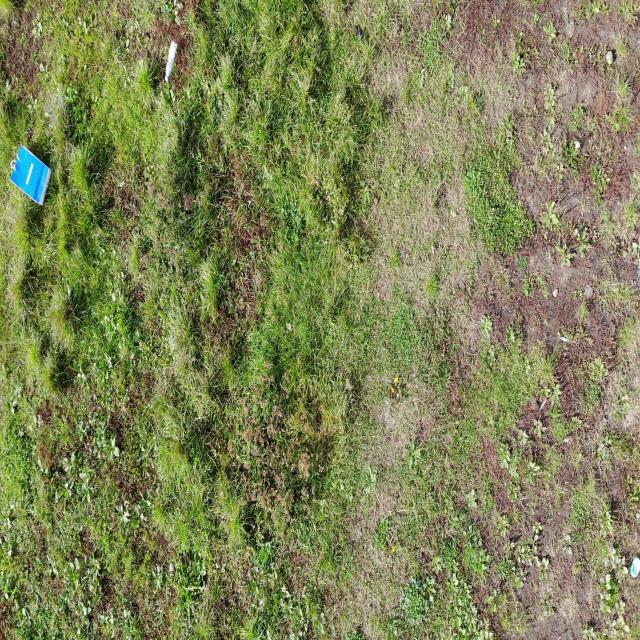rubbish: (9, 144, 52, 208), (164, 41, 178, 82), (629, 557, 639, 582)
